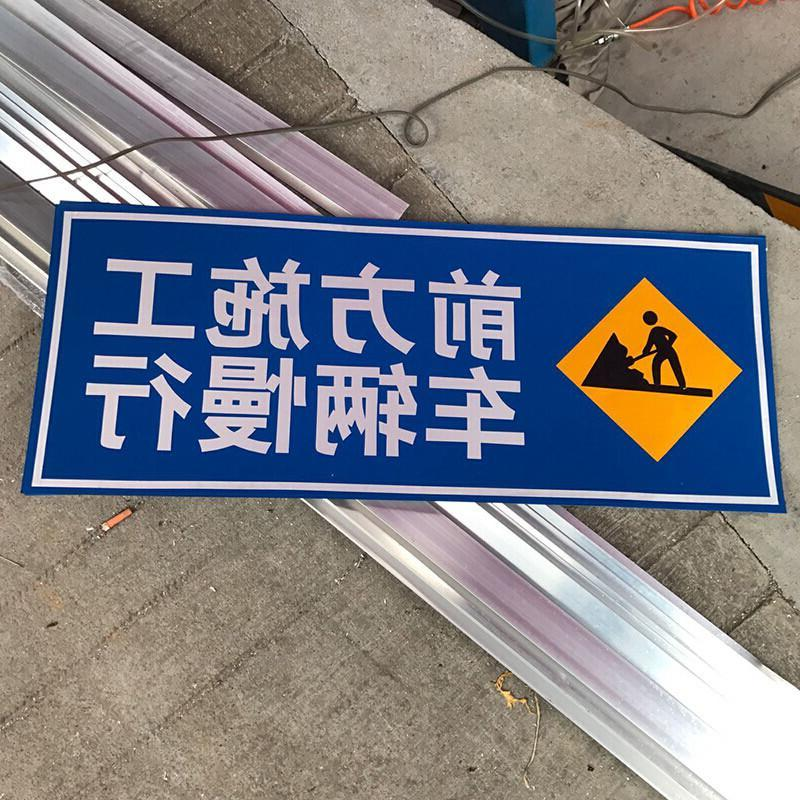sign: (35, 208, 781, 496)
